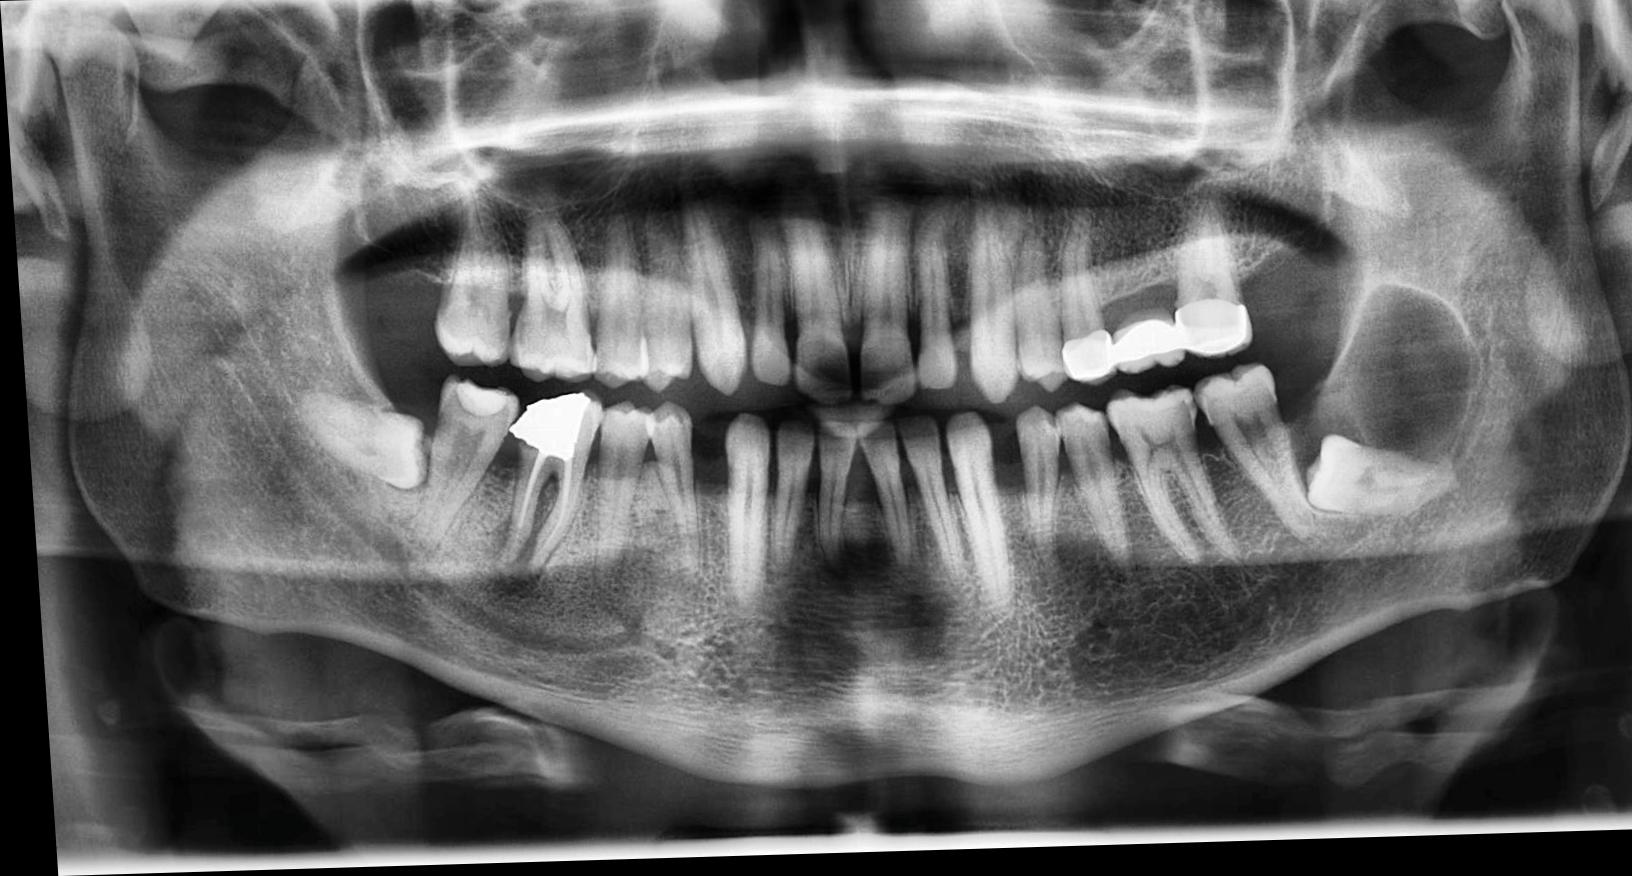keratokist: (1275, 288, 1486, 523)
radikuler: (476, 496, 562, 605)
